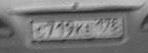license-plateSW: (31, 17, 123, 38)
